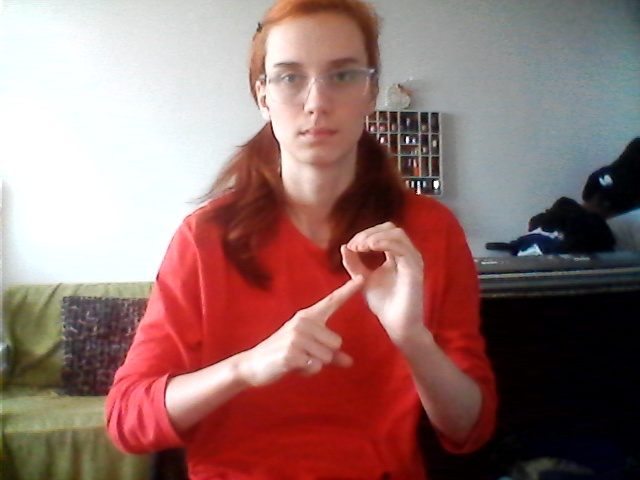q: (255, 210, 436, 396)
